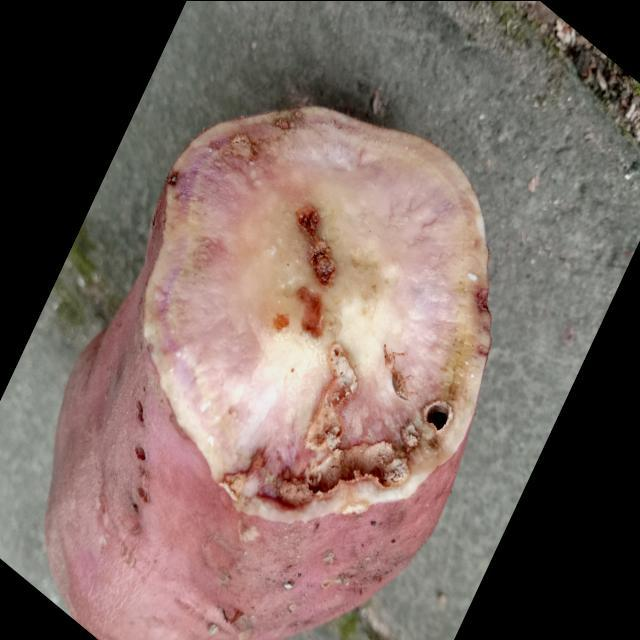Sick Sweet Potato_Tuber Rot: (144, 107, 491, 522)
